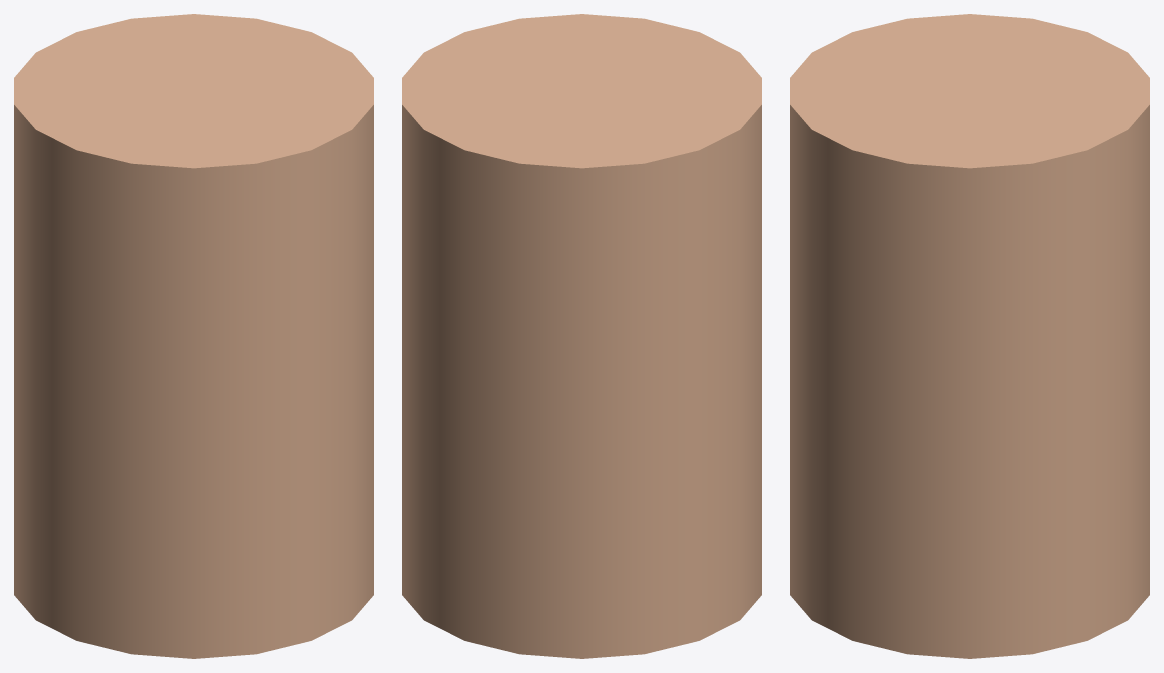
Rendered from yuanzu.obj.
3 renders of one model, left to right at view 1: azimuth 30°, elevation 25°; view 2: azimuth 150°, elevation 25°; view 3: azimuth 270°, elevation 25°, orthographic.
Parts seen in each view (by area): view 1: Cylinder001; view 2: Cylinder001; view 3: Cylinder001.
Part boxes in pixels (<box>): Cylinder001: <box>14,14,373,658</box>; Cylinder001: <box>402,14,761,658</box>; Cylinder001: <box>790,14,1149,658</box>.
Bounding box in the file's own units: 262 × 388 × 258.
